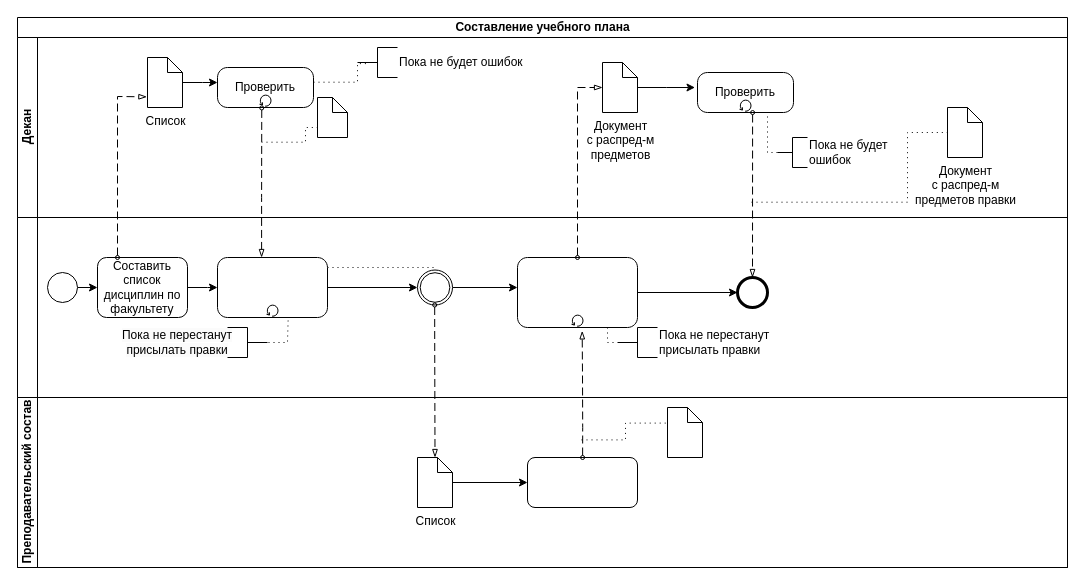
This 1085x585 diagram has some shape labels left out. The shapes that lost their labels are listed below. From the top down, each one's box as (x1, y1, x2, y2) in pixels, then its label:
(316, 96, 348, 138): Правки
(216, 256, 328, 318): Скорректировать
(416, 269, 452, 305): Готовность списка дисциплин
(16, 216, 1068, 398): Сотрудник деканата
(516, 256, 638, 328): Составить документ с распределением предметов
(666, 406, 702, 458): Пожелания
(526, 456, 638, 508): Выработать пожелания
